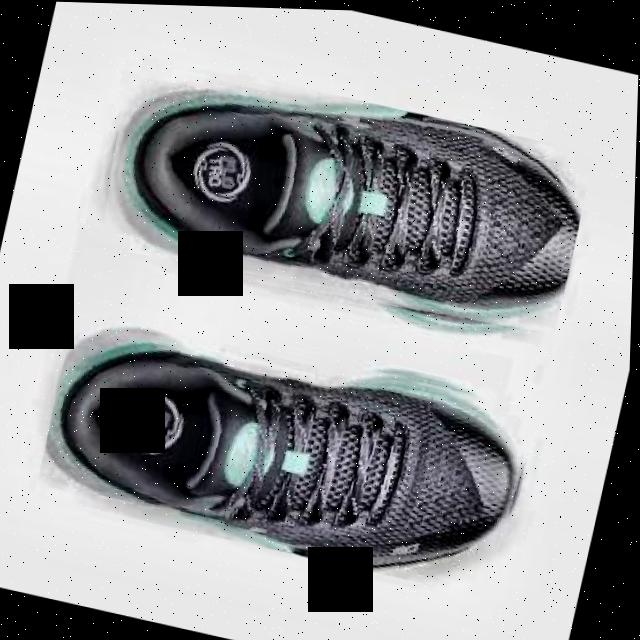shoe: (85, 47, 598, 352), (35, 295, 546, 598)
